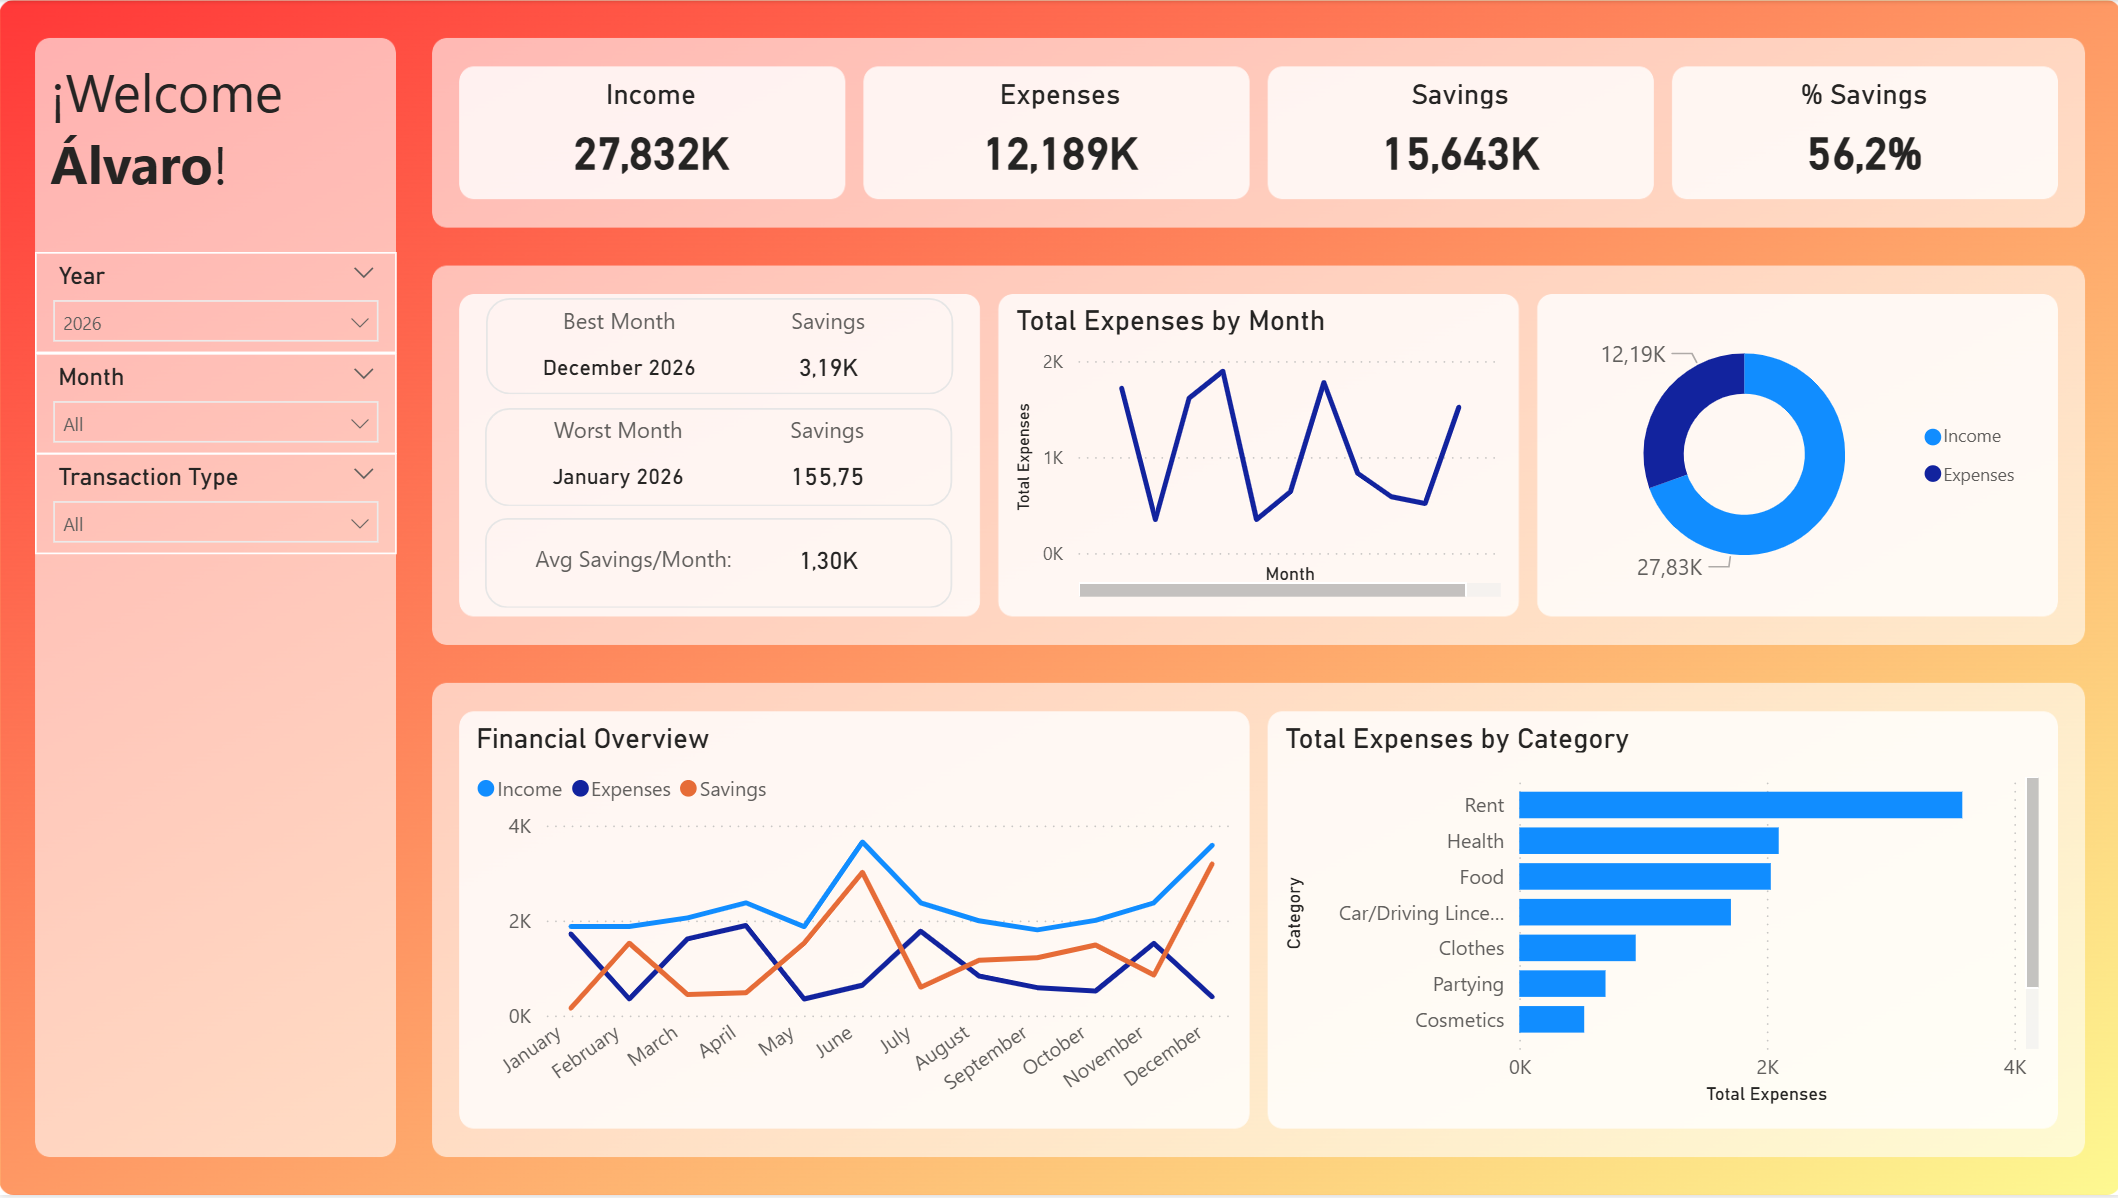

The page's visual inventory and layout, read from the dashboard file:
{"tool":"powerbi","page":{"name":"Page 1","canvas":[1280,720],"ordinal":0},"visuals":[{"type":"card","title":"Income","fields":{"Values":["specific_measures.Total Income"]},"box":[282.5,46.2,220.6,68.8],"z":0},{"type":"card","title":"Expenses","fields":{"Values":["specific_measures.Total Expenses"]},"box":[529.4,46.2,220.6,68.8],"z":1000},{"type":"card","title":"Savings","fields":{"Values":["specific_measures.Net Savings"]},"box":[770,46.2,220.6,68.8],"z":2000},{"type":"textbox","box":[25.6,27.5,211.2,124.4],"z":3000},{"type":"card","title":"% Savings","fields":{"Values":["specific_measures.Savings Rate"]},"box":[1013.8,46.2,220.6,68.8],"z":4000},{"type":"lineChart","title":"Financial Overview","fields":{"Y":["specific_measures.Total Income","specific_measures.Total Expenses","specific_measures.Net Savings"],"Category":["dim_date.Month","dim_date.Week"]},"box":[282.5,434.4,467.5,242.5],"z":5000},{"type":"barChart","title":"Total Expenses by Category","fields":{"Category":["dim_category.Category"],"Y":["specific_measures.Total Expenses"]},"box":[770,434.4,464.4,235.6],"z":6000},{"type":"slicer","fields":{"Values":["dim_date.Year"]},"box":[21.9,151.9,218.1,60.6],"z":7000},{"type":"slicer","fields":{"Values":["dim_date.Month"]},"box":[21.9,212.5,218.1,60.6],"z":8000},{"type":"slicer","fields":{"Values":["dim_category.Transaction Type"]},"box":[21.9,273.1,218.1,60.6],"z":9000},{"type":"lineChart","fields":{"Category":["dim_date.Month","dim_date.Week"],"Y":["specific_measures.Total Expenses"]},"box":[608.2,182.3,302.2,181.7],"z":10000},{"type":"donutChart","fields":{"Y":["specific_measures.Total Income","specific_measures.Total Expenses"]},"box":[939.1,182.3,289.7,182.3],"z":11000},{"type":"shape","box":[293.5,179.8,281.6,58.1],"z":12000},{"type":"card","title":"Best Month","fields":{"Values":["specific_measures.Best Month (Net Savings)"]},"box":[308.4,184.2,130.5,59.9],"z":13000},{"type":"card","title":"Savings","fields":{"Values":["specific_measures.Best Month (Net Savings) Value"]},"box":[434.6,184.2,130.5,59.9],"z":14000},{"type":"shape","box":[292.8,246,281.6,59.3],"z":15000},{"type":"card","title":"Worst Month","fields":{"Values":["specific_measures.Worst Month (Net Savings)"]},"box":[308,250.4,130.5,59.9],"z":16000},{"type":"card","title":"Savings","fields":{"Values":["specific_measures.Worst Month (Net Savings) Value"]},"box":[434,250.4,130.5,59.9],"z":17000},{"type":"shape","box":[292.8,312,281.6,54.3],"z":18000},{"type":"card","title":"Ahorro","fields":{"Values":["specific_measures.Average Net Savings"]},"box":[434.4,309.4,130.6,60],"z":19000},{"type":"textbox","box":[318.1,322.5,140.6,33.1],"z":20000}]}

Visuals, with their boxes in screenshot pixels (x1, y1, x2, y2), scaled from the page's 1280x720 canvas onto the 2118x1198 screenshot:
"Income" card: [467, 77, 832, 191]
"Expenses" card: [876, 77, 1241, 191]
"Savings" card: [1274, 77, 1639, 191]
textbox: [42, 46, 392, 253]
"% Savings" card: [1678, 77, 2043, 191]
"Financial Overview" lineChart: [467, 723, 1241, 1126]
"Total Expenses by Category" barChart: [1274, 723, 2043, 1115]
slicer - dim_date.Year: [36, 253, 397, 354]
slicer - dim_date.Month: [36, 354, 397, 454]
slicer - dim_category.Transaction Type: [36, 454, 397, 555]
lineChart - dim_date.Month x dim_date.Week: [1006, 303, 1506, 606]
donutChart - specific_measures.Total Income x specific_measures.Total Expenses: [1554, 303, 2033, 607]
shape: [486, 299, 952, 396]
"Best Month" card: [510, 306, 726, 406]
"Savings" card: [719, 306, 935, 406]
shape: [484, 409, 950, 508]
"Worst Month" card: [510, 417, 726, 516]
"Savings" card: [718, 417, 934, 516]
shape: [484, 519, 950, 609]
"Ahorro" card: [719, 515, 935, 615]
textbox: [526, 537, 759, 592]
